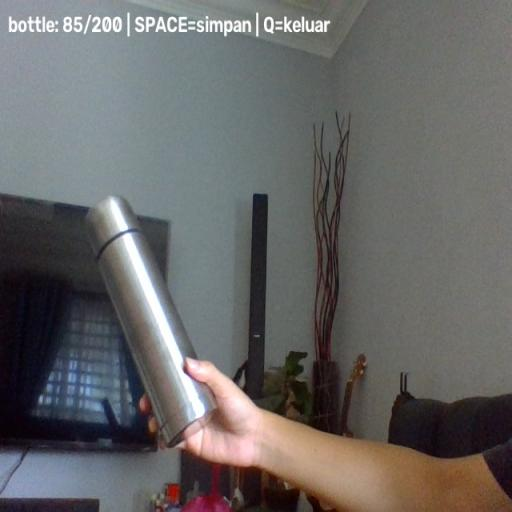Bottle: (84, 194, 217, 448)
